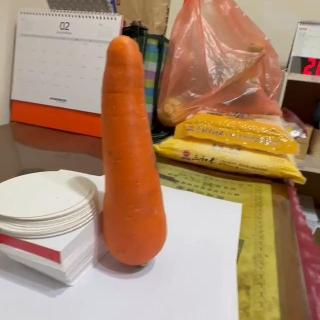carrot: (100, 35, 172, 269)
